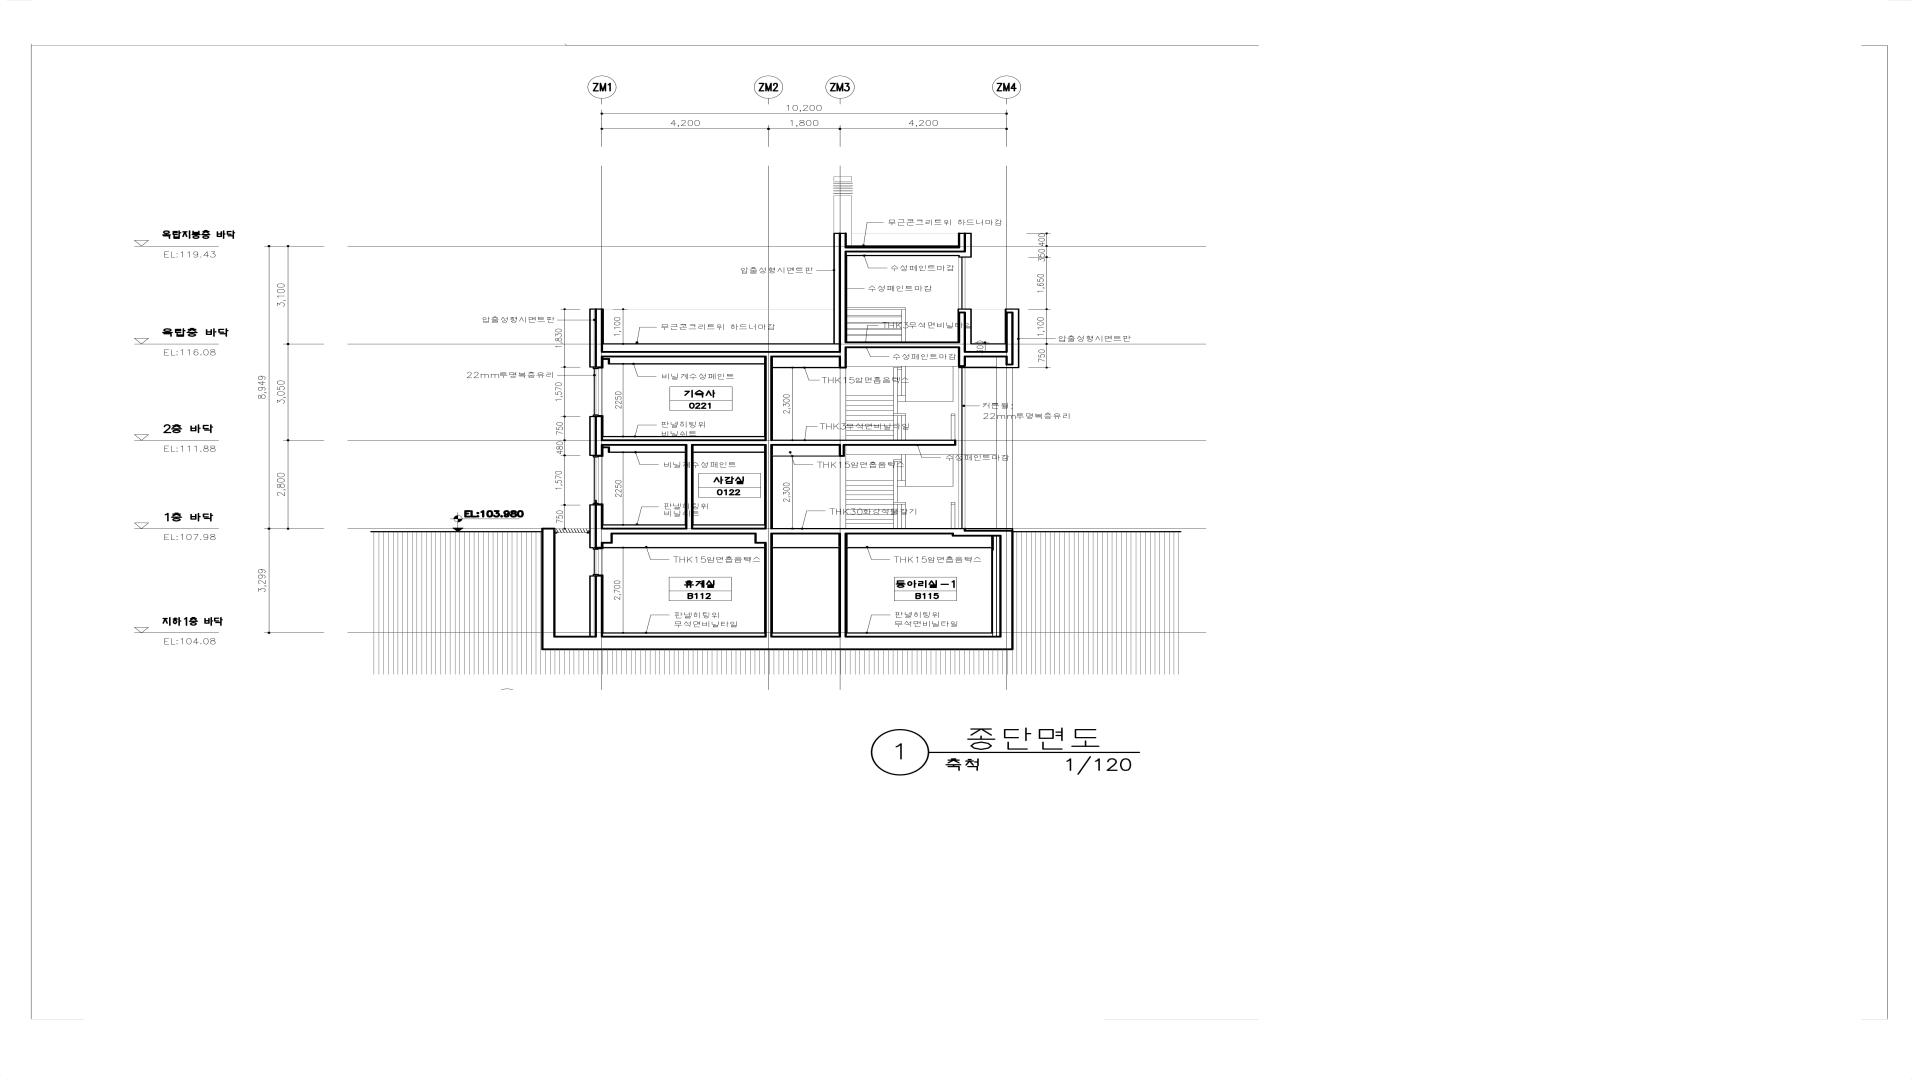wall: (555, 636, 1014, 650), (604, 527, 1000, 543), (604, 439, 956, 446), (542, 527, 555, 650), (604, 351, 847, 357), (1000, 530, 1014, 636), (839, 534, 848, 636), (839, 233, 847, 351), (764, 543, 773, 636), (992, 537, 1000, 636), (764, 446, 773, 527), (684, 446, 694, 527), (764, 357, 773, 439), (847, 342, 957, 348), (847, 247, 967, 252), (957, 309, 972, 351), (595, 575, 604, 636), (595, 309, 604, 368), (1005, 311, 1014, 365), (847, 252, 959, 256), (595, 504, 604, 549), (595, 415, 604, 455), (957, 311, 967, 351), (957, 351, 1006, 357), (959, 233, 972, 257), (972, 343, 1005, 351), (555, 529, 589, 534), (957, 233, 967, 247), (839, 357, 847, 368), (957, 357, 965, 367), (839, 446, 845, 456)
window: (957, 367, 965, 527), (592, 368, 604, 417), (593, 455, 604, 505), (959, 257, 965, 309), (592, 549, 604, 575)
